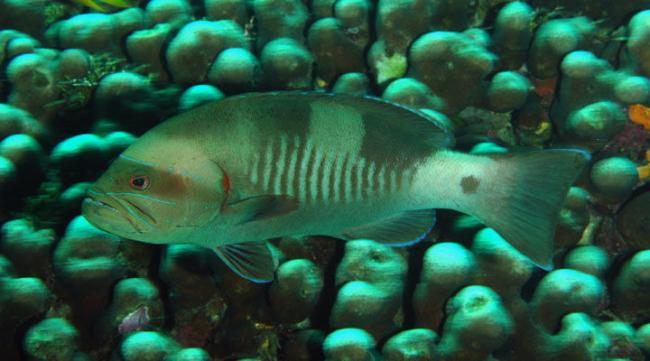fish: (81, 89, 588, 284)
